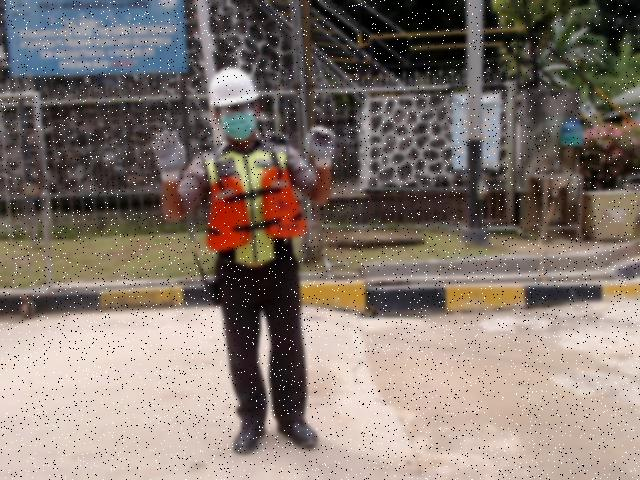glasses: (216, 103, 256, 117)
gloves: (150, 129, 186, 184), (306, 123, 337, 169)
helmet: (206, 65, 261, 108)
mask: (218, 112, 256, 141)
safety-shoes: (233, 414, 269, 457), (276, 417, 320, 452)
vest: (205, 165, 308, 251)
